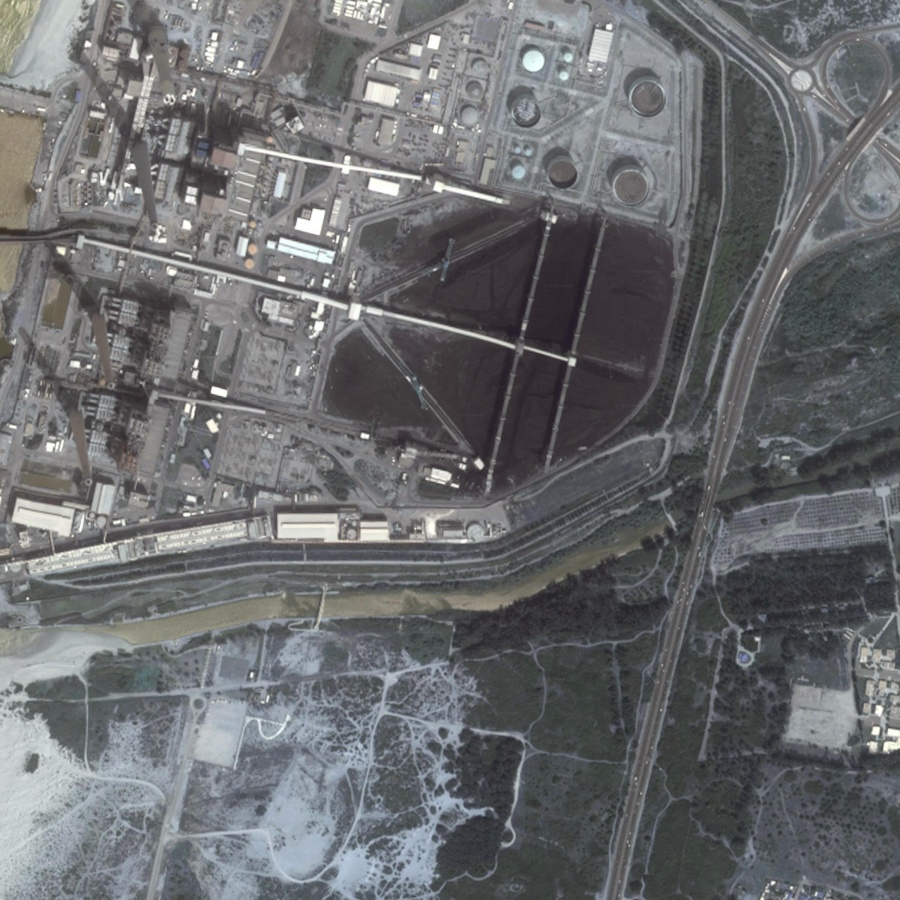PowerPlant: (318, 81, 679, 477)
